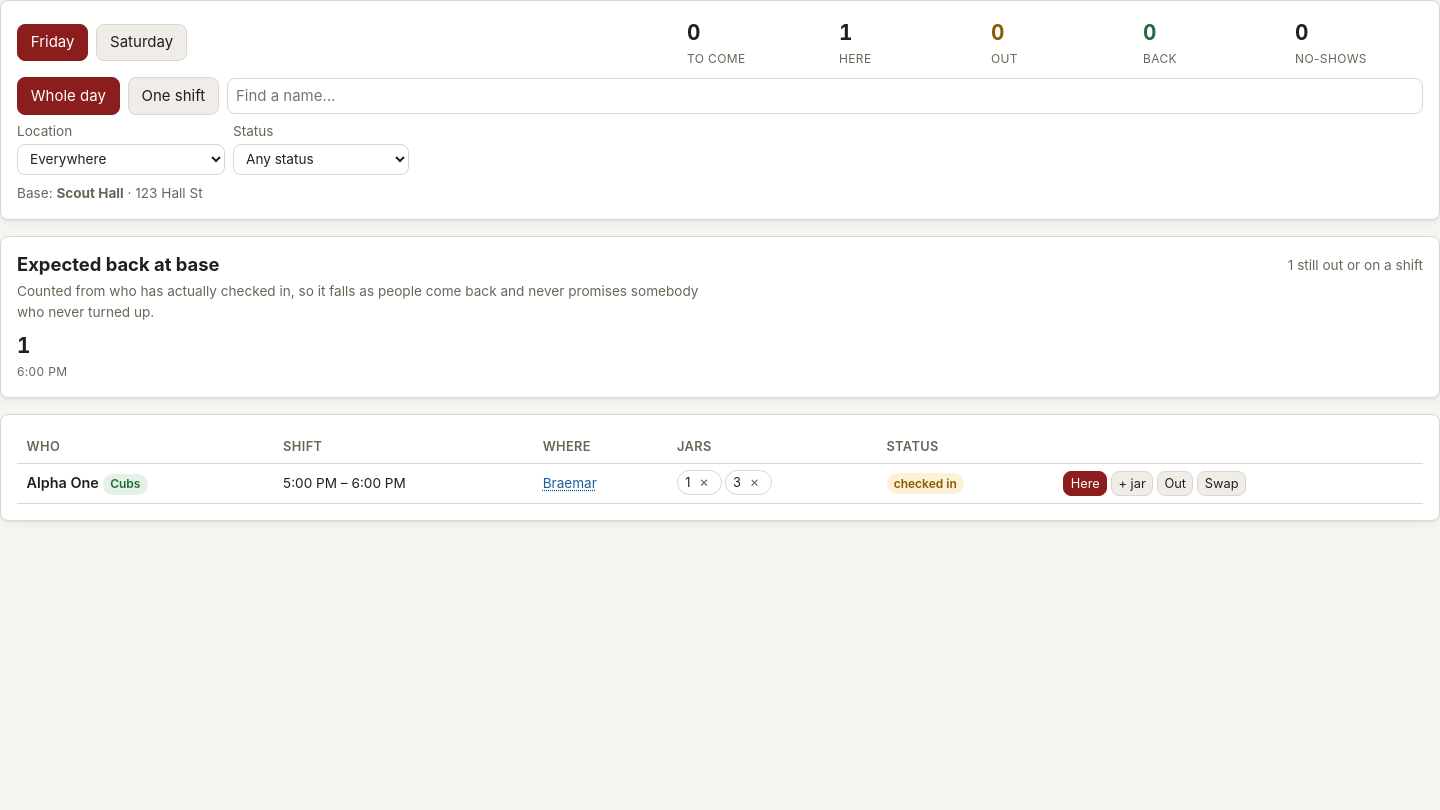
issuing a jar › offers the lowest number not already out
This screenshot has width=1440, height=810.
Click the button titled "Give Alpha One a jar".
click(1132, 484)  # box [1111, 470, 1153, 496]
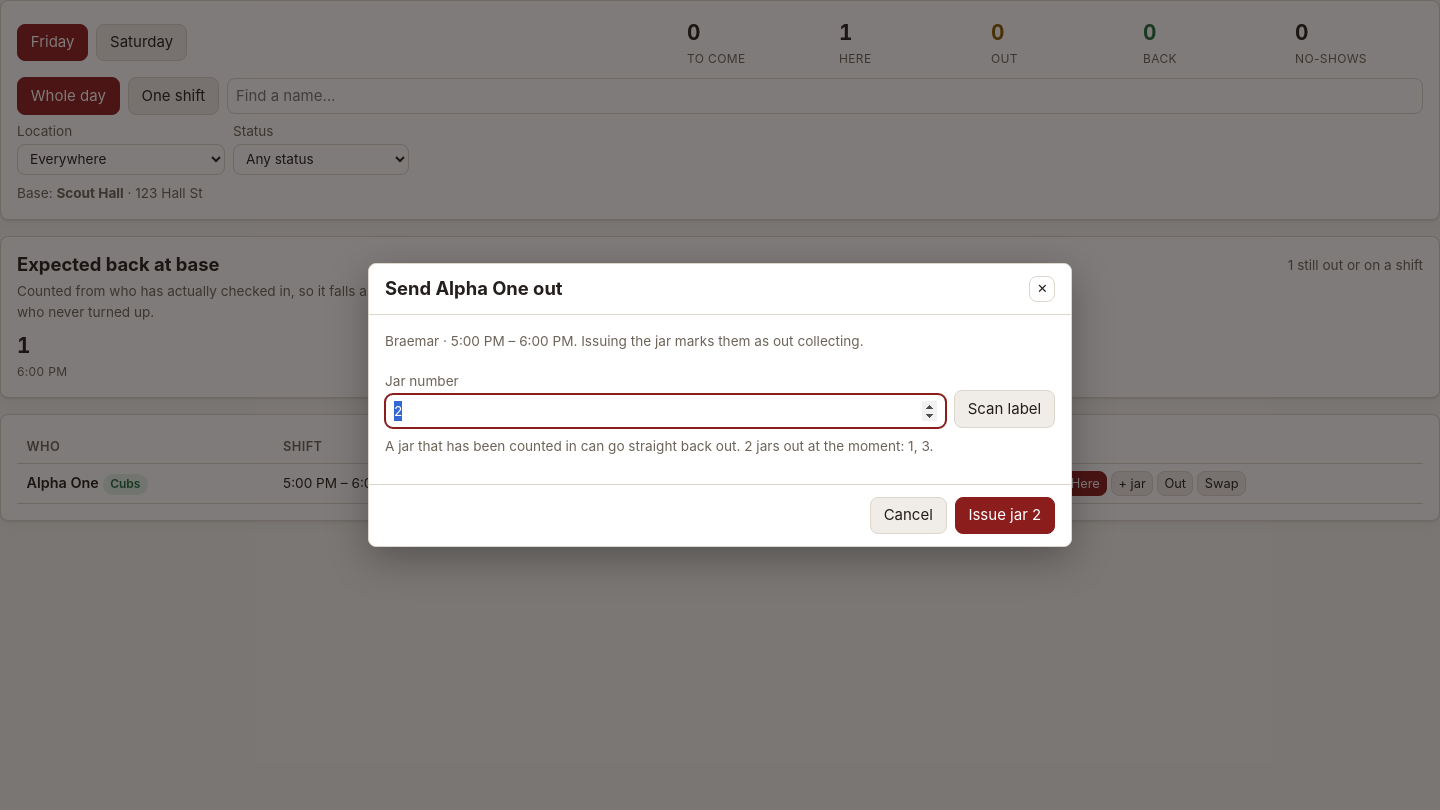
expect the number field labelled "Jar number" holds "2": met, box [385, 394, 946, 428]
